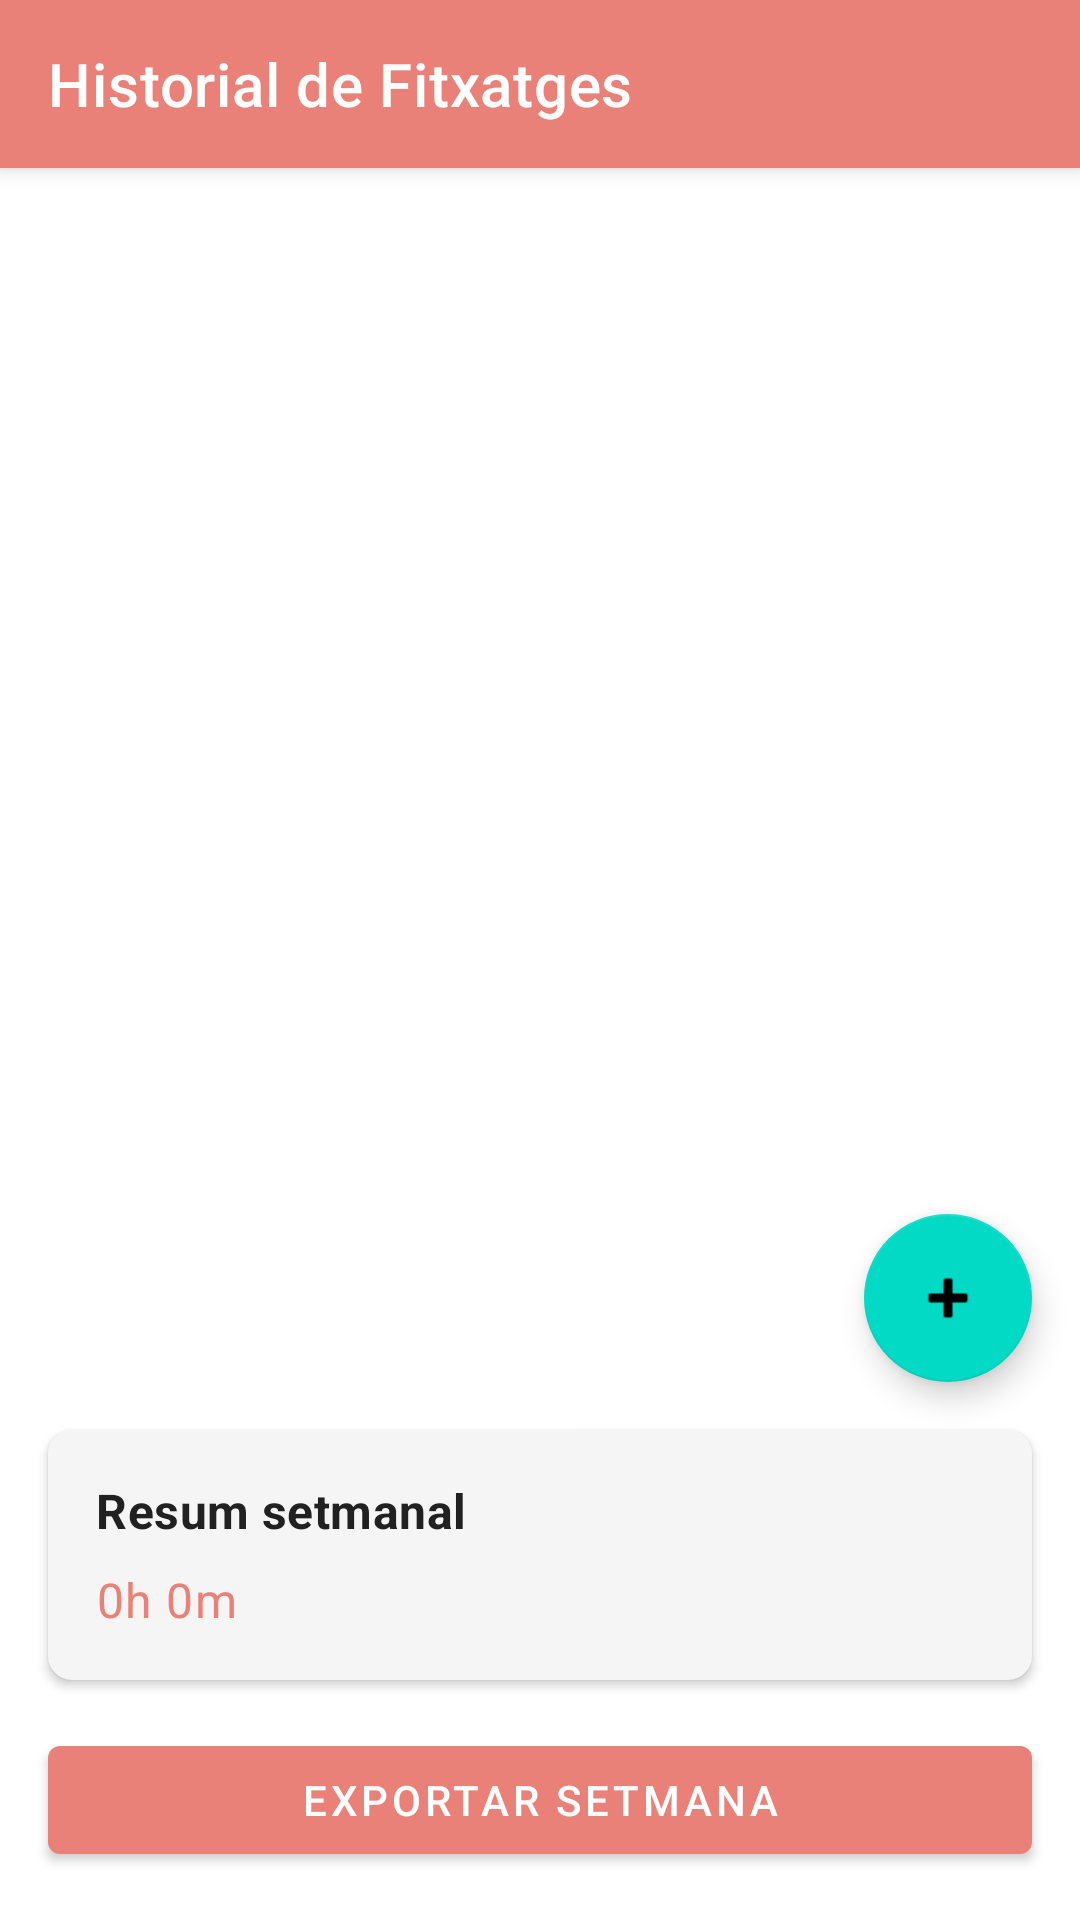

Icons on this 1080px×1920px Android screen, each with its box as detection(x1, y1, x2, y2):
Afegir registre: detection(864, 1214, 1032, 1382)
